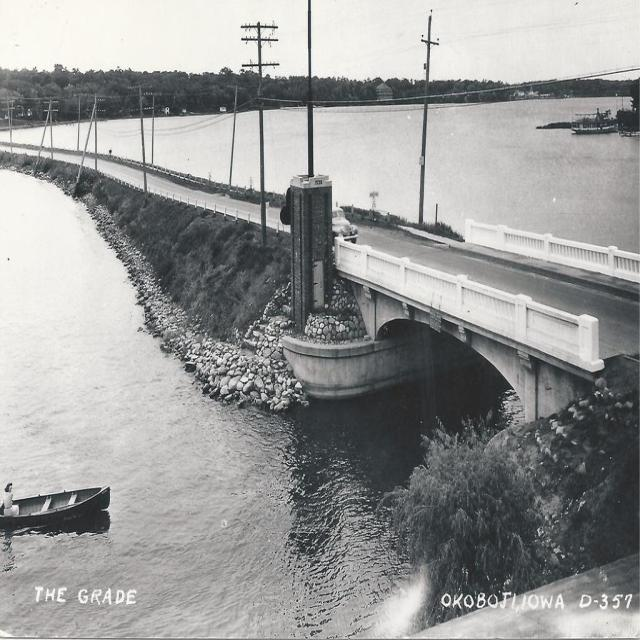Boat: (2, 477, 106, 541), (570, 105, 616, 135)
